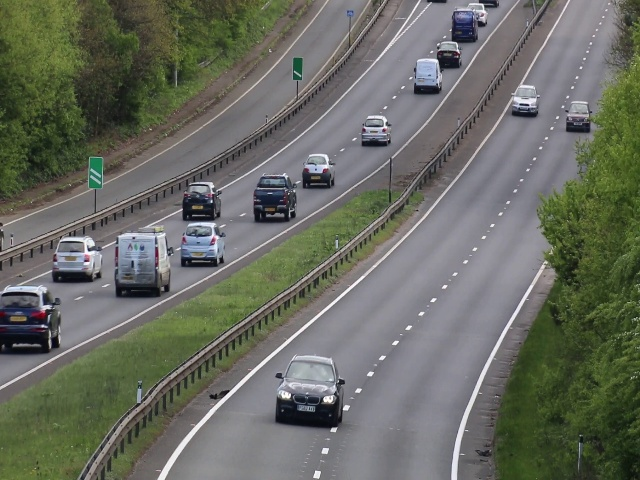car: (273, 351, 346, 427), (1, 285, 62, 350), (113, 230, 171, 296), (51, 234, 103, 282), (251, 172, 298, 219), (177, 222, 226, 267), (180, 181, 222, 220), (299, 153, 337, 185), (413, 56, 443, 93), (360, 113, 392, 147), (452, 8, 479, 42), (510, 84, 540, 114), (564, 100, 592, 130), (436, 41, 463, 67)
